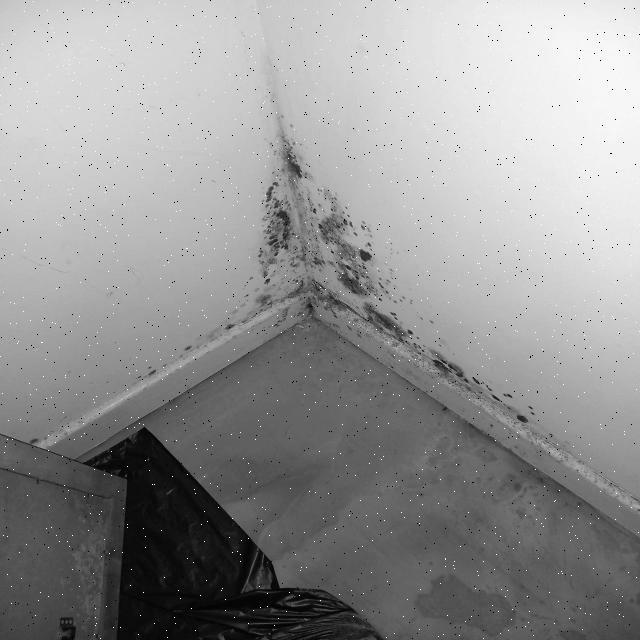stain marks: (107, 58, 591, 467)
